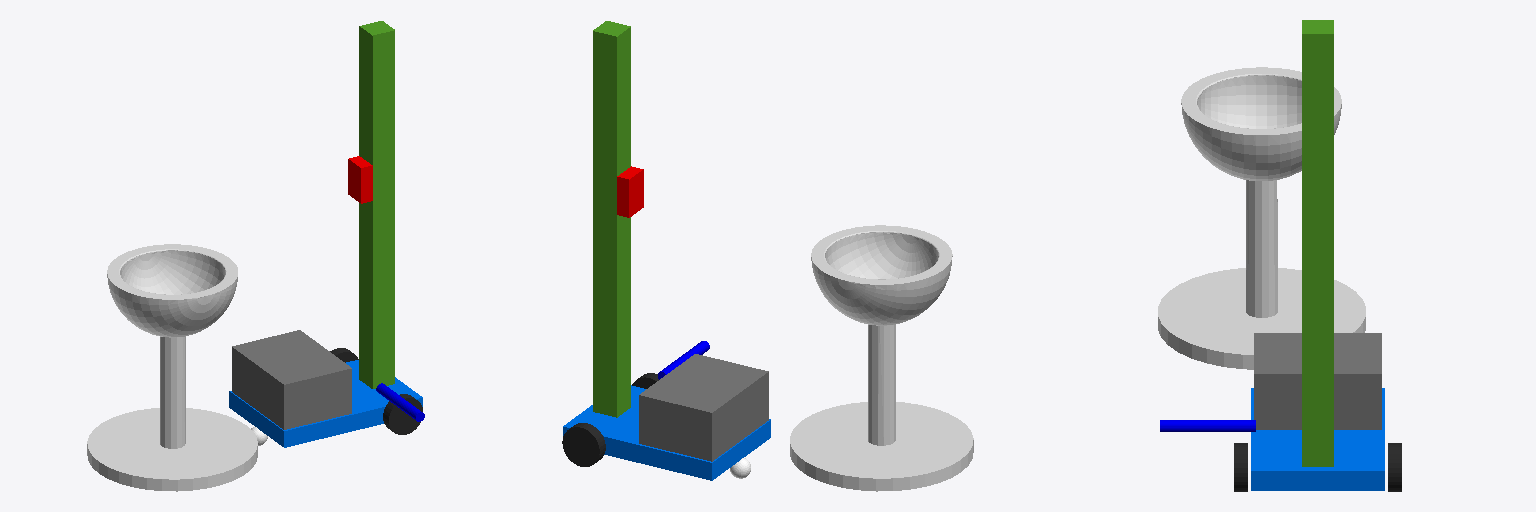
URDF robot description (ur5):
<?xml version="1.0"?>
<robot name="ur5" xmlns:controller="http://playerstage.sourceforge.net/gazebo/xmlschema/#controller" xmlns:interface="http://playerstage.sourceforge.net/gazebo/xmlschema/#interface" xmlns:sensor="http://playerstage.sourceforge.net/gazebo/xmlschema/#sensor" xmlns:xacro="http://ros.org/wiki/xacro">
  <material name="UR/Blue">
    <color rgba="0.0 0.0 0.8 1.0"/>
  </material>
  <material name="UR/Grey">
    <color rgba="0.7 0.7 0.7 1.0"/>
  </material>
  <!-- arm -->
    <!-- World link to fix basin -->
  <link name="world"/>


  <link name="base_link">
    <visual>
      <origin xyz="0 0 0" rpy="0 0 0" />
      <geometry>
        <box size="0.6096 0.4191 0.07"/>
      </geometry>
      <material name="blue">
        <color rgba="0 0.5 1 1"/>
      </material>
    </visual>

    <collision>
      <origin xyz="0 0 0" rpy="0 0 0"/>
      <geometry>
        <box size="0.6096 0.4191 0.07"/>
      </geometry>
    </collision>

    <inertial>
      <mass value="5"/>
      <inertia ixx="0.13" ixy="0.0" ixz="0.0" iyy="0.21" iyz="0.0" izz="0.13"/>
    </inertial>
  </link>

  <!-- ========================= -->
  <!-- Wheels -->
  <!-- ========================= -->
  <!-- Right Wheel -->
  <link name="right_wheel">
    <visual>
      <origin xyz="0 0 0" rpy="1.570795 0 0"/>
      <geometry>
        <cylinder radius="0.0762" length="0.04318"/>
      </geometry>
      <material name="darkgray">
        <color rgba=".2 .2 .2 1"/>
      </material>
    </visual>
    <collision>
      <origin xyz="0 0 0" rpy="1.570795 0 0"/>
      <geometry>
        <cylinder radius="0.0762" length="0.04318"/>
      </geometry>
    </collision>
    <inertial>
      <mass value="0.5"/>
      <inertia ixx="0.01" ixy="0.0" ixz="0.0" iyy="0.005" iyz="0.0" izz="0.005"/>
    </inertial>
  </link>
  <joint name="joint_right_wheel" type="continuous">
    <parent link="base_link"/>
    <child link="right_wheel"/>
    <origin xyz="0.2 0.24 0" rpy="0 0 0"/>
    <axis xyz="0 1 0"/>
  </joint>

  <!-- Left Wheel -->
  <link name="left_wheel">
    <visual>
      <origin xyz="0 0 0" rpy="1.570795 0 0"/>
      <geometry>
        <cylinder radius="0.0762" length="0.04318"/>
      </geometry>
      <material name="darkgray">
        <color rgba=".2 .2 .2 1"/>
      </material>
    </visual>
    <collision>
      <origin xyz="0 0 0" rpy="1.570795 0 0"/>
      <geometry>
        <cylinder radius="0.0762" length="0.04318"/>
      </geometry>
    </collision>
    <inertial>
      <mass value="0.5"/>
      <inertia ixx="0.01" ixy="0.0" ixz="0.0" iyy="0.005" iyz="0.0" izz="0.005"/>
    </inertial>
  </link>
  <joint name="joint_left_wheel" type="continuous">
    <parent link="base_link"/>
    <child link="left_wheel"/>
    <origin xyz="0.2 -0.24 0" rpy="0 0 0"/>
    <axis xyz="0 1 0"/>
  </joint>

  <!-- ========================= -->
  <!-- Caster -->
  <!-- ========================= -->
  <link name="caster">
    <visual>
      <origin xyz="0 0 0" rpy="0 0 0"/>
      <geometry>
        <sphere radius="0.0381"/>
      </geometry>
      <material name="white">
        <color rgba="1 1 1 1"/>
      </material>
    </visual>
    <collision>
      <origin xyz="0 0 0" rpy="0 0 0"/>
      <geometry>
        <sphere radius="0.0381"/>
      </geometry>
    </collision>
    <inertial>
      <mass value="0.5"/>
      <inertia ixx="0.0001" ixy="0.0" ixz="0.0" iyy="0.0001" iyz="0.0" izz="0.0001"/>
    </inertial>
  </link>
  <joint name="caster_joint" type="continuous">
    <parent link="base_link"/>
    <child link="caster"/>
    <origin xyz="-0.3 0.0 -0.07" rpy="1.57 0 0"/>
  </joint>

  <!-- ========================= -->
  <!-- Pole and Plate -->
  <!-- ========================= -->
  <link name="pole">
    <visual>
      <origin xyz="0 0 0" rpy="0 0 0"/>
      <geometry>
      <box size="0.1 0.1 1.5"/>
      </geometry>
      <material name="grass">
        <color rgba="0.36 0.67 0.18 1"/>
      </material>
    </visual>
    <collision>
      <origin xyz="0 0 0" rpy="0 0 0"/>
      <geometry>
      <box size="0.1 0.1 1.5"/>
      </geometry>
    </collision>
    <inertial>
      <mass value="1.0"/>
      <inertia ixx="0.004375" ixy="0" ixz="0" iyy="0.004375" iyz="0" izz="0.005"/>
    </inertial>
  </link>
  <joint name="pole_joint" type="fixed">
    <parent link="base_link"/>
    <child link="pole"/>
    <origin xyz="0.225 0 0.77" rpy="0 0 3.1416"/>
  </joint>


  <!-- Plate Slider -->
  <link name="plate_slider">
    <visual>
      <origin xyz="0.5 0 0.0" rpy="0 1.57 0"/>
      <geometry>
        <box size="0.15 0.1 0.05"/>
      </geometry>
      <material name="red">
        <color rgba="1 0 0 1"/>
      </material>
    </visual>
    <collision>
      <origin xyz="0.5 0 0.05" rpy="0 0 0"/>
      <geometry>
        <box size="0.1 0.1 0.02"/>
      </geometry>
    </collision>
    <inertial>
      <mass value="0.2"/>
      <inertia ixx="0.001" ixy="0.0" ixz="0" iyy="0.001" iyz="0" izz="0.001"/>
    </inertial>
  </link>
  <joint name="plate_slider_joint" type="prismatic">
    <parent link="base_link"/>
    <child link="plate_slider"/>
    <origin xyz="-0.35 0.0 0.0" rpy="0 0 0"/>
    <axis xyz="0 0 1"/>
    <limit lower="0.3" upper="1.5" effort="30" velocity="0.1"/>
  </joint>


  <link name="base_link_1">
    <visual>
      <geometry>
        <mesh filename="package://ur5_description/meshes/ur5/visual/Base.dae"/>
      </geometry>
      <origin rpy="0.0 0.0 2.3561944875" xyz="0.0 0.0 0.003"/>
    </visual>

    <collision>
      <geometry>
        <mesh filename="package://ur5_description/meshes/ur5/collision/Base.dae"/>
      </geometry>

    </collision>
  <inertial>
    <mass value="4.0"/>
    <inertia ixx="1.0" ixy="0.0" ixz="0.0" iyy="1.0" iyz="0.0" izz="1.0"/>
  </inertial>
  </link>
  
<joint name="base_to_ur5" type="fixed">
  <parent link="plate_slider"/>
  <child link="base_link_1"/>
  <origin xyz="0.475 0 0.025" rpy="0 1.57 3.14"/> <!-- adjust Z height as needed -->
</joint>

  <joint name="shoulder_pan_joint" type="revolute">
    <parent link="base_link_1"/>
    <child link="shoulder_link"/>
    <origin rpy="0.0 0.0 0.0" xyz="0.0 0.0 0.089159"/>
    <axis xyz="0 0 1"/>
    <limit effort="10.0" lower="-3.14159265" upper="3.14159265" velocity="3.14159265"/>
    <dynamics damping="10" friction="0.1"/>
  </joint>
  <link name="shoulder_link">
    <visual>
      <geometry>
        <mesh filename="package://ur5_description/meshes/ur5/visual/Shoulder.dae"/>
      </geometry>
    </visual>
    <collision>
      <geometry>
        <mesh filename="package://ur5_description/meshes/ur5/collision/Shoulder.dae"/>
      </geometry>
      <!-- <origin rpy="0.0 0.0 0.0" xyz="0.0 0.0 -0.009159"/> -->
    </collision>
    <inertial>
      <mass value="3.7"/>
      <inertia ixx="1.0" ixy="0.0" ixz="0.0" iyy="1.0" iyz="0.0" izz="1.0"/>
      <origin rpy="0.0 0.0 0.0" xyz="0.0 0.00193 -0.02561"/>
    </inertial>
  </link>
  <joint name="shoulder_lift_joint" type="revolute">
    <parent link="shoulder_link"/>
    <child link="upper_arm_link"/>
    <origin rpy="0.0 1.570796325 0.0" xyz="0.0 0.13585 0.0"/>
    <axis xyz="0 1 0"/>
    <limit effort="10.0" lower="-3.14159265" upper="3.14159265" velocity="3.14159265"/>
    <dynamics damping="10" friction="0.1"/>
  </joint>
  <link name="upper_arm_link">
    <visual>
      <geometry>
        <mesh filename="package://ur5_description/meshes/ur5/visual/UpperArm.dae"/>
      </geometry>
      <origin rpy="0.0 0.0 0.0" xyz="0.0 0.0 0.0"/>
    </visual>
    <collision>
      <geometry>
        <mesh filename="package://ur5_description/meshes/ur5/collision/UpperArm.dae"/>
      </geometry>
      <!--       <origin rpy="0.0 0.0 0.0" xyz="0.0 0.0 0.2125"/> -->
    </collision>
    <inertial>
      <mass value="8.393"/>
      <inertia ixx="1.0" ixy="0.0" ixz="0.0" iyy="1.0" iyz="0.0" izz="1.0"/>
      <origin rpy="0.0 0.0 0.0" xyz="0.0 -0.024201 0.2125"/>
    </inertial>
  </link>
  <joint name="elbow_joint" type="revolute">
    <parent link="upper_arm_link"/>
    <child link="forearm_link"/>
    <origin rpy="0.0 0.0 0.0" xyz="0.0 -0.1197 0.425"/>
    <axis xyz="0 1 0"/>
    <limit effort="10.0" lower="-3.14159265" upper="3.14159265" velocity="3.14159265"/>
    <dynamics damping="10" friction="0.1"/>
  </joint>
  <link name="forearm_link">
    <visual>
      <geometry>
        <mesh filename="package://ur5_description/meshes/ur5/visual/Forearm.dae"/>
      </geometry>
    </visual>
    <collision>
      <geometry>
        <mesh filename="package://ur5_description/meshes/ur5/collision/Forearm.dae"/>
      </geometry>
      <!--       <origin rpy="0.0 0.0 0.0" xyz="0.0 0.0 0.196125"/> -->
    </collision>
    <inertial>
      <mass value="2.275"/>
      <origin rpy="0.0 0.0 0.0" xyz="0.0 0.0265 0.11993"/>
      <inertia ixx="1.0" ixy="0.0" ixz="0.0" iyy="1.0" iyz="0.0" izz="1.0"/>
    </inertial>
  </link>
  <joint name="wrist_1_joint" type="revolute">
    <parent link="forearm_link"/>
    <child link="wrist_1_link"/>
    <origin rpy="0.0 1.570796325 0.0" xyz="0.0 0.0 0.39225"/>
    <axis xyz="0 1 0"/>
    <limit effort="10.0" lower="-3.14159265" upper="0.7853981625" velocity="3.14159265"/>
    <dynamics damping="10" friction="0.1"/>
  </joint>
  <link name="wrist_1_link">
    <visual>
      <geometry>
        <mesh filename="package://ur5_description/meshes/ur5/visual/Wrist1.dae"/>
      </geometry>
      <origin rpy="0.0 1.570796325 0.0" xyz="0.0 0.093 0.0"/>
    </visual>
    <collision>
      <geometry>
        <mesh filename="package://ur5_description/meshes/ur5/collision/Wrist1.dae"/>
      </geometry>
      <origin rpy="0.0 1.570796325 0.0" xyz="0.0 0.093 0.0"/>
    </collision>
    <inertial>
      <mass value="1.219"/>
      <origin rpy="0.0 0.0 0.0" xyz="0.0 0.110949 0.01634"/>
      <inertia ixx="1.0" ixy="0.0" ixz="0.0" iyy="1.0" iyz="0.0" izz="1.0"/>
    </inertial>
  </link>
  <joint name="wrist_2_joint" type="revolute">
    <parent link="wrist_1_link"/>
    <child link="wrist_2_link"/>
    <origin rpy="0.0 0.0 0.0" xyz="0.0 0.093 0.0"/>
    <axis xyz="0 0 1"/>
    <limit effort="10.0" lower="-3.14159265" upper="3.14159265" velocity="3.14159265"/>
    <dynamics damping="10" friction="0.1"/>
  </joint>
  <link name="wrist_2_link">
    <visual>
      <geometry>
        <mesh filename="package://ur5_description/meshes/ur5/visual/Wrist2.dae"/>
      </geometry>
      <origin rpy="0.0 0.0 0.0" xyz="0.0 0.0 0.09465"/>
    </visual>
    <collision>
      <geometry>
        <mesh filename="package://ur5_description/meshes/ur5/collision/Wrist2.dae"/>
      </geometry>
      <origin rpy="0.0 0.0 0.0" xyz="0.0 0.0 0.09465"/>
    </collision>
    <inertial>
      <mass value="1.219"/>
      <origin rpy="0.0 0.0 0.0" xyz="0.0 0.0018 0.11099"/>
      <inertia ixx="1.0" ixy="0.0" ixz="0.0" iyy="1.0" iyz="0.0" izz="1.0"/>
    </inertial>
  </link>
  <joint name="wrist_3_joint" type="revolute">
    <parent link="wrist_2_link"/>
    <child link="wrist_3_link"/>
    <origin rpy="0.0 0.0 0.0" xyz="0.0 0.0 0.09465"/>
    <axis xyz="0 1 0"/>
    <limit effort="10.0" lower="-3.14159265" upper="3.14159265" velocity="3.14159265"/>
    <dynamics damping="10" friction="0.1"/>
  </joint>
  <link name="wrist_3_link">
    <visual>
      <geometry>
        <mesh filename="package://ur5_description/meshes/ur5/visual/Wrist3.dae"/>
      </geometry>
    </visual>
    <collision>
      <geometry>
        <mesh filename="package://ur5_description/meshes/ur5/collision/Wrist3.dae"/>
      </geometry>
    </collision>
    <inertial>
      <mass value="0.1879"/>
      <origin rpy="0.0 0.0 0.0" xyz="0.0 0.001159 0.0"/>
      <inertia ixx="1.0" ixy="0.0" ixz="0.0" iyy="1.0" iyz="0.0" izz="1.0"/>
    </inertial>
  </link>
  <joint name="ee_fixed_joint" type="fixed">
    <parent link="wrist_3_link"/>
    <child link="ee_link"/>
    <origin rpy="0.0 0.0 1.570796325" xyz="0.0 0.0823 0.0"/>
  </joint>
  <link name="ee_link"/>

  <link name="brush_link">
    <visual>
      <geometry>
        <cylinder length="0.3" radius="0.02"/>
      </geometry>
      <origin xyz="0 0 0.15" rpy="0 0 0"/> <!-- move +0.15 along Z -->
      <material name="blue">
        <color rgba="0 0 1 1"/>
      </material>
    </visual>
    <collision>
      <geometry>
        <cylinder length="0.1" radius="0.02"/>
      </geometry>
    </collision>
    <inertial>
      <mass value="0.1"/>
      <inertia ixx="0.0001" ixy="0" ixz="0" iyy="0.0001" iyz="0" izz="0.0001"/>
      <origin xyz="0 0 0.05" rpy="0 0 0"/>
    </inertial>
  </link>

    <!-- Fixed joint to attach to robot's end-effector -->
  <joint name="brush_joint" type="fixed">
    <parent link="ee_link"/> <!-- Replace ee_link with your robot's end-effector link -->
    <child link="brush_link"/>
    <origin xyz="0 0 0.0" rpy="0 1.57 0"/>
  </joint>




<!-- Joints -->

<!-- World → bottom cylinder -->
<joint name="world_to_base_link" type="fixed">
  <parent link="world"/>
  <child link="base_link"/>
  <origin xyz="0 0 0.05" rpy="0 0 0"/>
</joint>


<link name="washbasin_link">
  <visual>
    <geometry>
      <mesh filename="package://ur5_description/meshes/ur5/visual/basin.STL" scale="0.001 0.001 0.001"/>
    </geometry>
    <origin xyz="0.2 0 0.8" rpy="-3.14 0 0"/> <!-- half height above ground -->
    <material name="White">
      <color rgba="0.9 0.9 0.9 1.0"/>
    </material>
  </visual>
  <collision>
    <geometry>
      <cylinder radius="0.3" length="0.1"/> <!-- simple collision -->
    </geometry>
    <origin xyz="0 0 0.05" rpy="0 0 0"/>
  </collision>
  <inertial>
    <mass value="5.0"/>
    <inertia ixx="0.1" iyy="0.1" izz="0.1" ixy="0" ixz="0" iyz="0"/>
    <origin xyz="0 0 0.05" rpy="0 0 0"/>
  </inertial>
</link>

<joint name="world_to_washbasin" type="fixed">
  <parent link="world"/>
  <child link="washbasin_link"/>
  <origin xyz="-1.3 0.15 0.05" rpy="0 0 0"/>
</joint>


<!-- Attch a counte weight -->
<link name="counterweight">
  <visual>
    <origin xyz="-0.3 0 0.05" rpy="0 0 0"/> <!-- behind slider along -X -->
    <geometry>
      <box size="0.3 0.4 0.2"/> <!-- adjust size as needed -->
    </geometry>
    <material name="gray">
      <color rgba="0.5 0.5 0.5 1"/>
    </material>
  </visual>
  <collision>
    <origin xyz="-0.3 0 0.02" rpy="0 0 0"/>
    <geometry>
      <box size="0.3 0.2 0.2"/> <!-- adjust size as needed -->
    </geometry>
  </collision>
  <inertial>
    <mass value="10000.0"/>
    <inertia ixx="1.0" ixy="0.0" ixz="0.0" iyy="1.0" iyz="0.0" izz="1.0"/>
  </inertial>
</link>

<joint name="counterweight_to_slider" type="fixed">
  <parent link="base_link"/>
  <child link="counterweight"/>
  <origin xyz="0.15 0 0.075" rpy="0 0 0"/> <!-- relative to slider -->
</joint>


<gazebo reference="base_link_1">
    <material>Gazebo/Orange</material>
</gazebo>

<gazebo reference="shoulder_link">
    <material>Gazebo/Orange</material>
</gazebo>

<gazebo reference="upper_arm_link">
    <material>Gazebo/Orange</material>
</gazebo>

<gazebo reference="forearm_link">
    <material>Gazebo/Orange</material>
</gazebo>

<gazebo reference="wrist_1_link">
    <material>Gazebo/Red</material>
</gazebo>

<gazebo reference="wrist_2_link">
    <material>Gazebo/Orange</material>
</gazebo>

<gazebo reference="wrist_3_link">
    <material>Gazebo/Orange</material>
</gazebo>

<gazebo reference="base_link">
    <material>Gazebo/Black</material>
</gazebo>
<gazebo reference="right_wheel">
    <material>Gazebo/Red</material>
</gazebo>
<gazebo reference="left_wheel">
    <material>Gazebo/Red</material>
</gazebo>
<gazebo reference="caster">
    <material>Gazebo/Red</material>
</gazebo>
<gazebo reference="brush_link">
    <material>Gazebo/Blue</material>
</gazebo>

<gazebo reference="counterweight">
    <material>Gazebo/white</material>
</gazebo>





<!--  Addign Controllers -->

<ros2_control name="GazeboSystem" type="system">
  <hardware>
    <plugin>gazebo_ros2_control/GazeboSystem</plugin>
  </hardware>

  <!-- Shoulder Pan -->
  <joint name="shoulder_pan_joint">
      <param name="initial_position">-0.323</param>
      <command_interface name="effort"/>
      <command_interface name="velocity"/>
      <command_interface name="position"/>
      <state_interface name="position"/>
      <state_interface name="velocity"/>
      <state_interface name="effort"/>
  </joint>
  <!-- Shoulder Lift -->
  <joint name="shoulder_lift_joint">
      <param name="initial_position">-0.425</param>
      <command_interface name="effort"/>
      <command_interface name="velocity"/>
      <command_interface name="position"/>
      <state_interface name="position"/>
      <state_interface name="velocity"/>
      <state_interface name="effort"/>
  </joint>
  <!-- Elbow -->
  <joint name="elbow_joint">
      <param name="initial_position">0.357</param>
      <command_interface name="effort"/>
      <command_interface name="velocity"/>
      <command_interface name="position"/>
      <state_interface name="position"/>
      <state_interface name="velocity"/>
      <state_interface name="effort"/>
  </joint>
  <!-- Wrist 1 -->
  <joint name="wrist_1_joint">
      <param name="initial_position">-0.849</param>
      <command_interface name="effort"/>
      <command_interface name="velocity"/>
      <command_interface name="position"/>
      <state_interface name="position"/>
      <state_interface name="velocity"/>
      <state_interface name="effort"/>
  </joint>
  <!-- Wrist 2 -->
  <joint name="wrist_2_joint">
      <param name="initial_position">-1.817</param>
      <command_interface name="effort"/>
      <command_interface name="velocity"/>
      <command_interface name="position"/>
      <state_interface name="position"/>
      <state_interface name="velocity"/>
      <state_interface name="effort"/>
  </joint>
  <!-- Wrist 3 -->
    <joint name="wrist_3_joint">
      <param name="initial_position">-1.817</param>
      <command_interface name="effort"/>
      <command_interface name="velocity"/>
      <command_interface name="position"/>
      <state_interface name="position"/>
      <state_interface name="velocity"/>
      <state_interface name="effort"/>
  </joint>
  <joint name="plate_slider_joint">
      <param name="initial_position">0.0</param>
      <command_interface name="effort"/>
      <command_interface name="velocity"/>
      <command_interface name="position"/>
      <state_interface name="position"/>
      <state_interface name="velocity"/>
      <state_interface name="effort"/>
  </joint>

  

</ros2_control>

<gazebo>
  <plugin name="gazebo_ros2_control" filename="libgazebo_ros2_control.so">
    <robot_param>robot_description</robot_param>
    <robot_param_node>robot_state_publisher</robot_param_node>
    <parameters>
      [local-path]/UR5_AMR_CL_1/src/robotic_arms_control/robotic_arms_control/config/ur5_itc_controller.yaml
    </parameters>
  </plugin>
</gazebo>

<!-- <gazebo>
  <plugin name="gazebo_ros2_control" filename="libgazebo_ros2_control.so">
    <robot_param>robot_description</robot_param>
    <robot_param_node>robot_state_publisher</robot_param_node>
    <parameters>package://robotic_arms_control/config/ur5_itc_controller.yaml</parameters>
  </plugin>
</gazebo> -->


</robot>

--- What the picture shows (computed from the rendered views, not written in the file) ---
The picture shows the robot from 3 angles, left to right: view 1: azimuth 30°, elevation 25°; view 2: azimuth 150°, elevation 25°; view 3: azimuth 270°, elevation 25°; orthographic projection.
Model ur5 with 18 links and 17 joints (6 revolute, 3 continuous, 1 prismatic, 7 fixed), rooted at world, posed all joints at 0 but 1 set to mid-range because 0 is outside their limits (plate_slider_joint = 0.9).
Links seen in each view (by area): view 1: washbasin_link, pole, counterweight, base_link, plate_slider, left_wheel, brush_link; view 2: washbasin_link, pole, counterweight, base_link, right_wheel, plate_slider; view 3: washbasin_link, pole, counterweight, base_link, brush_link, right_wheel, left_wheel.
Boxes of the visible links, x1,y1,x2,y2 form: washbasin_link: (87,244,257,491); pole: (359,21,394,388); counterweight: (232,330,351,429); base_link: (229,360,422,447); plate_slider: (348,156,372,203); left_wheel: (383,394,422,434); brush_link: (376,383,424,421); washbasin_link: (790,225,973,491); pole: (593,21,630,417); counterweight: (639,354,768,461); base_link: (563,385,770,480); right_wheel: (562,423,605,466); plate_slider: (617,166,643,217); washbasin_link: (1158,67,1365,369); pole: (1302,20,1333,466); counterweight: (1254,333,1381,429); base_link: (1251,388,1384,490); brush_link: (1160,420,1255,431); right_wheel: (1388,443,1401,491); left_wheel: (1234,443,1247,491).
Size in the robot's own frame: 1.4 by 0.7591 by 1.63 metres.
1 mesh visuals loaded from 8 distinct referenced files (1 binary STL); not drawn: 7 (reference not matched to a file when rendering).